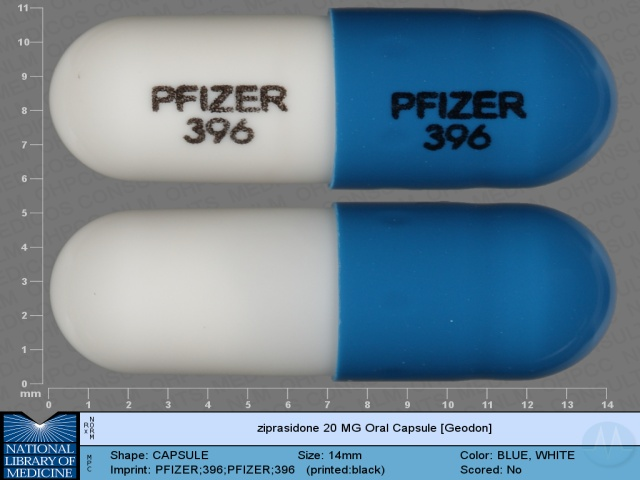capsule: (47, 201, 619, 386), (47, 7, 621, 188)
